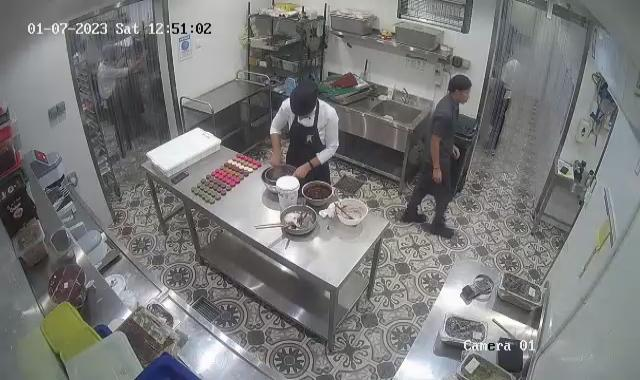no_hairnet: (290, 82, 320, 118), (448, 74, 473, 97)
